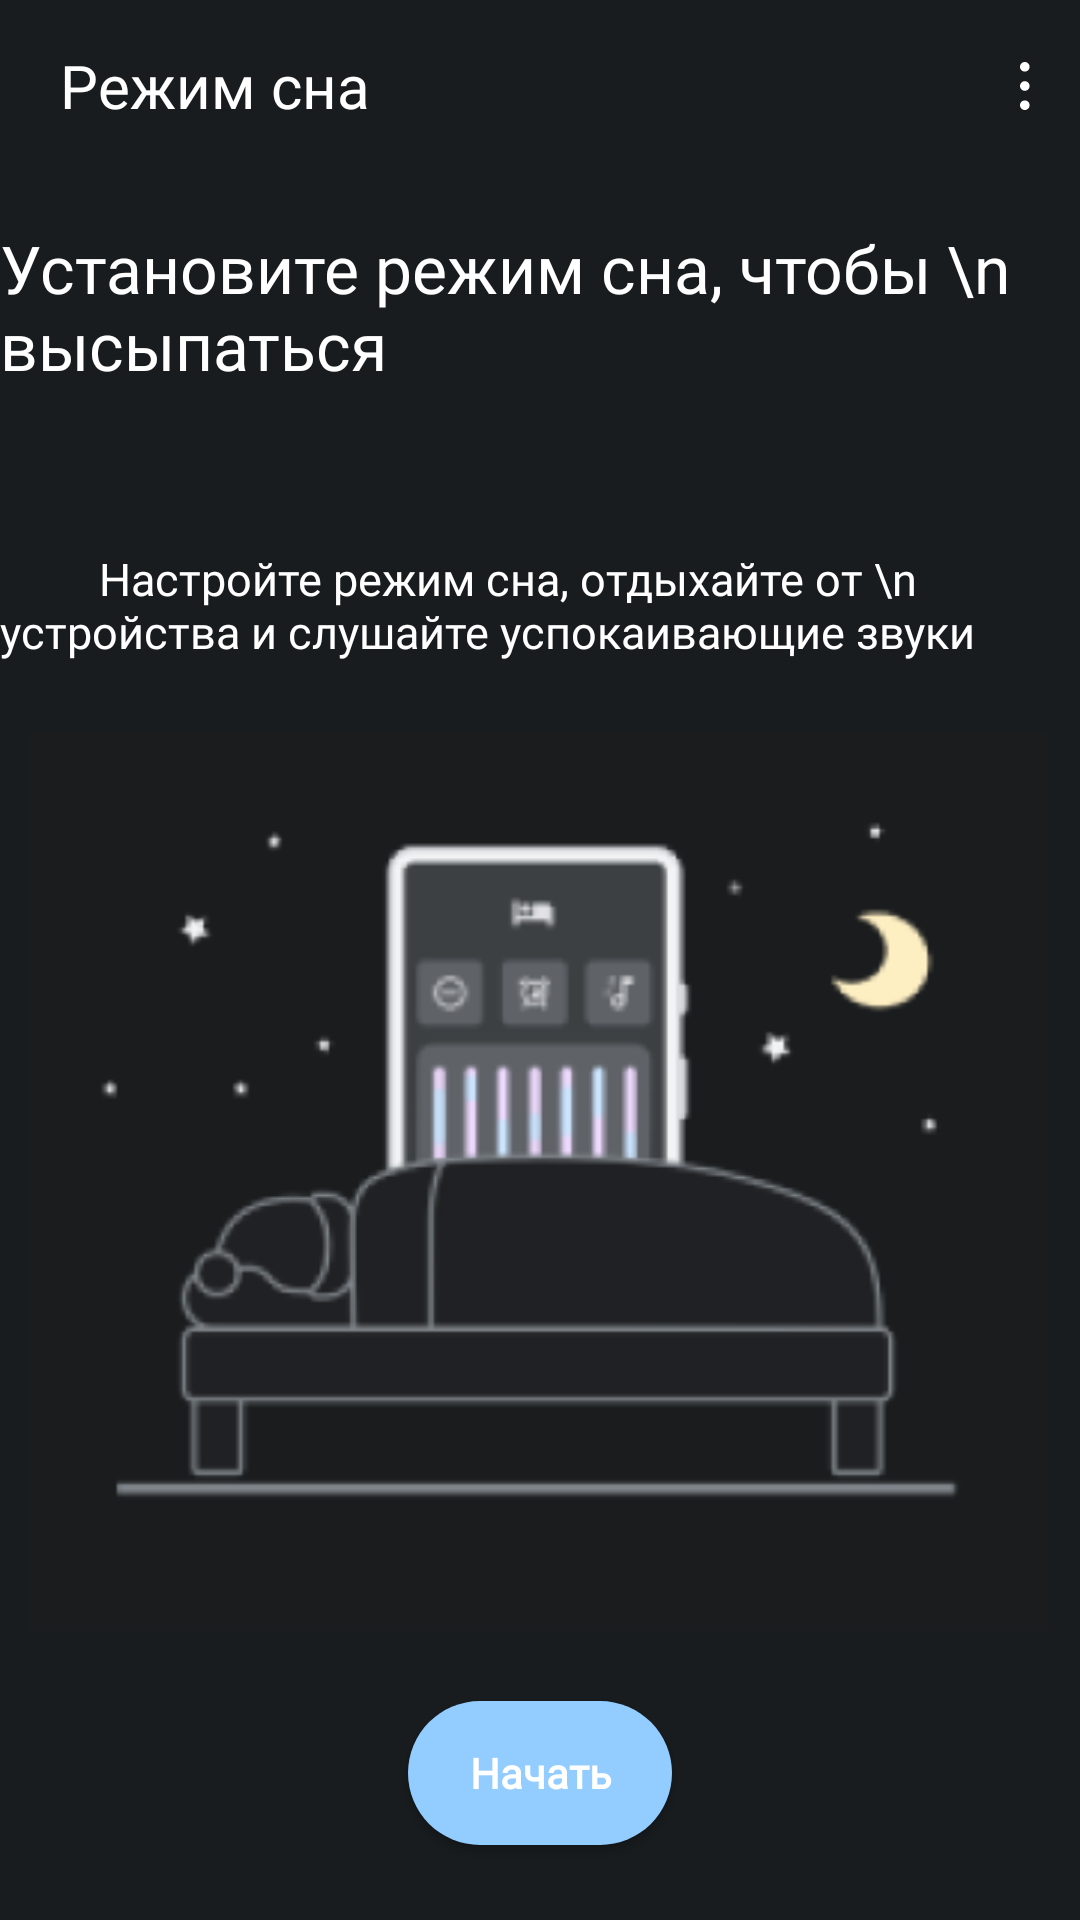

Where to tap for icons on this 1080×1920 app screen, as [x,y]:
menu: [1025,86]
